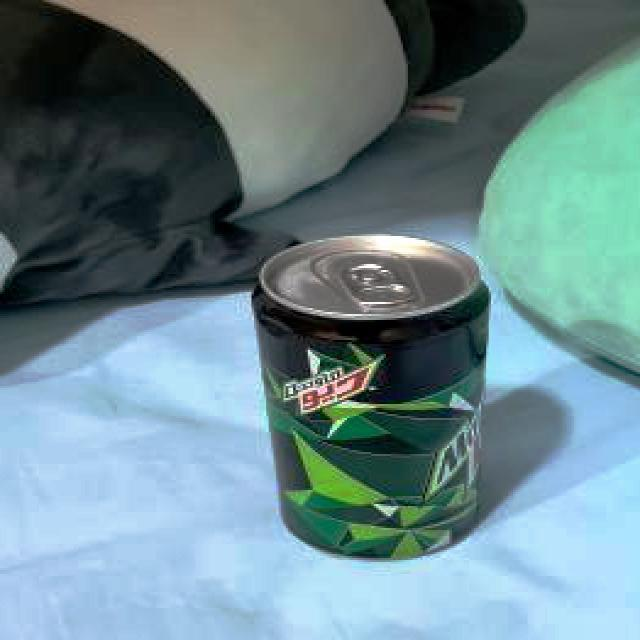Lata: (251, 234, 495, 555)
